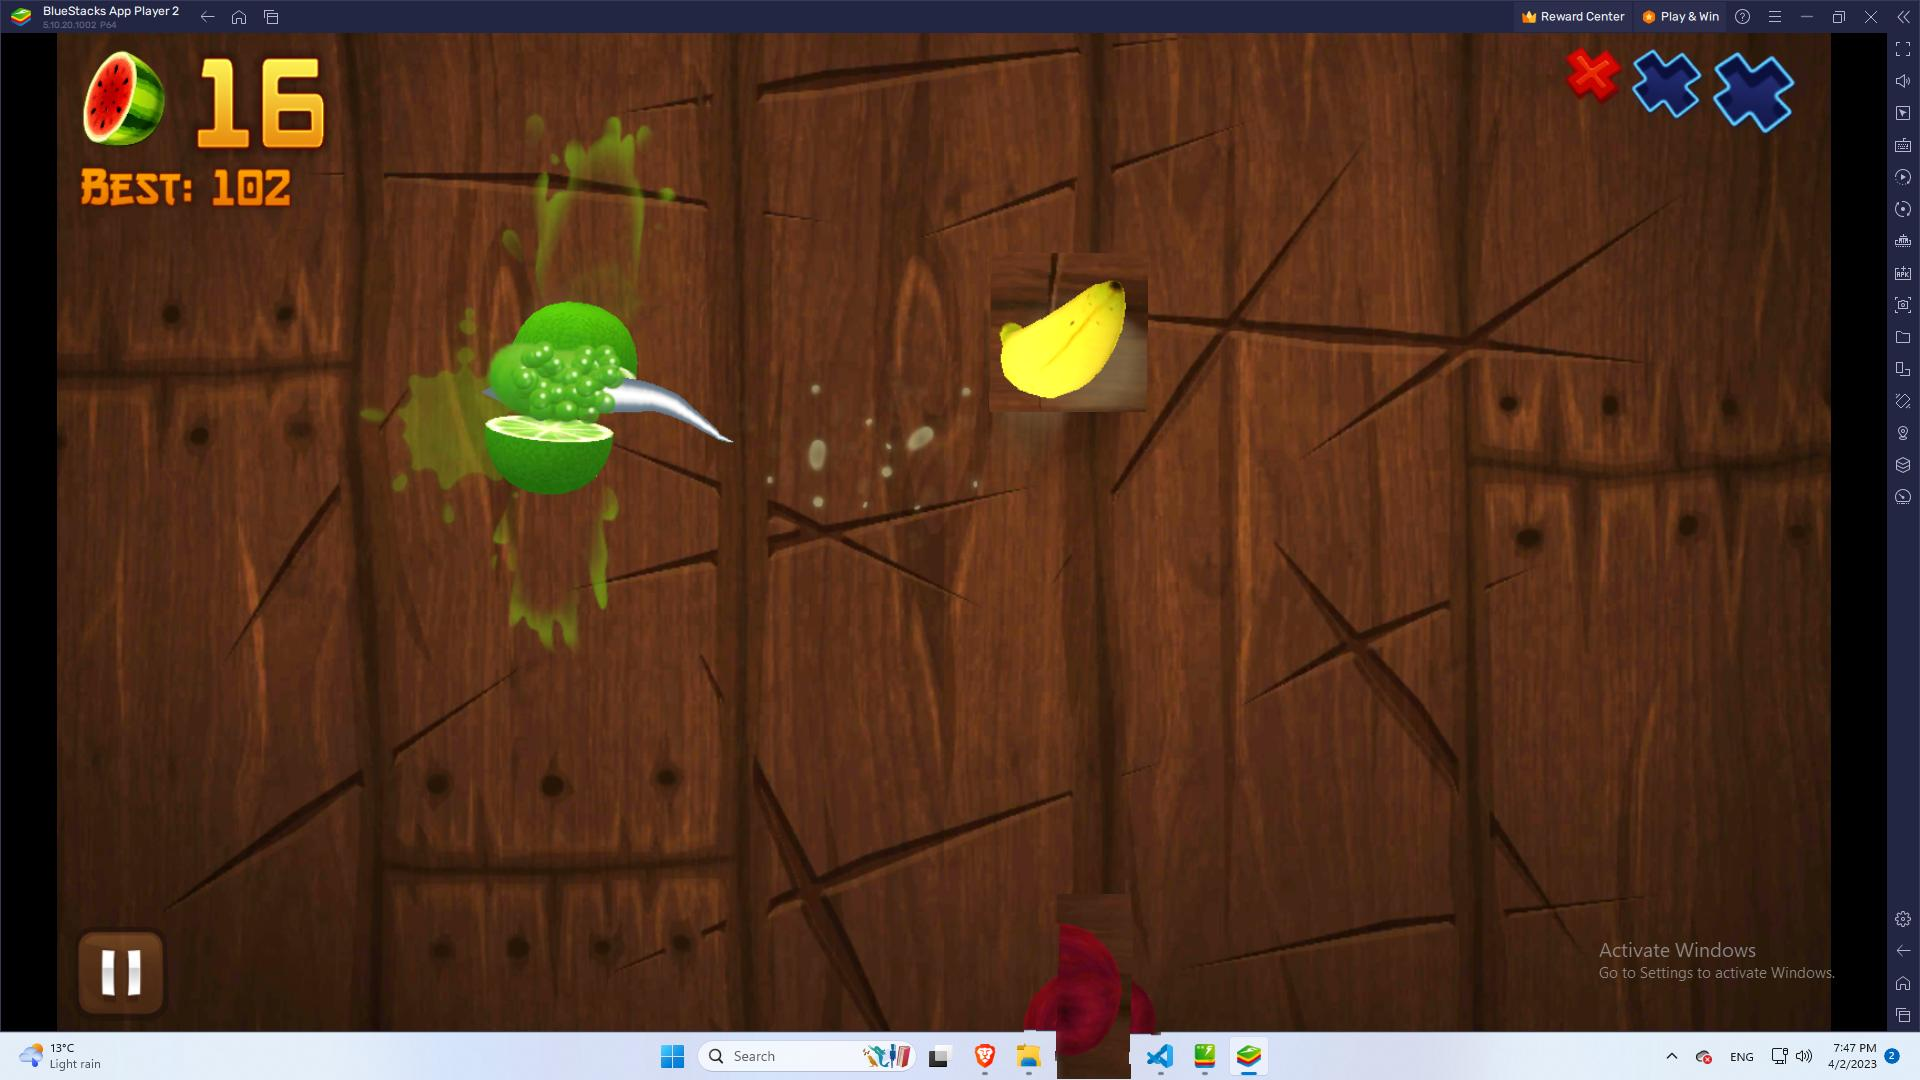fruit: (989, 253, 1149, 413), (1025, 924, 1163, 1063)
